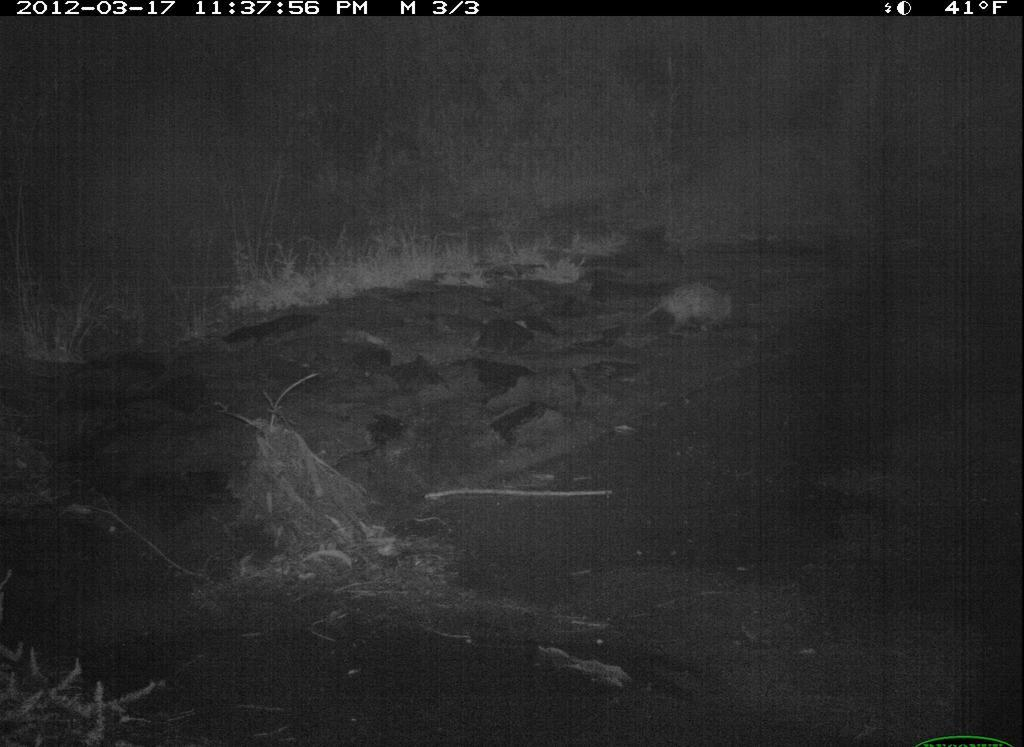opossum: (617, 272, 748, 345)
